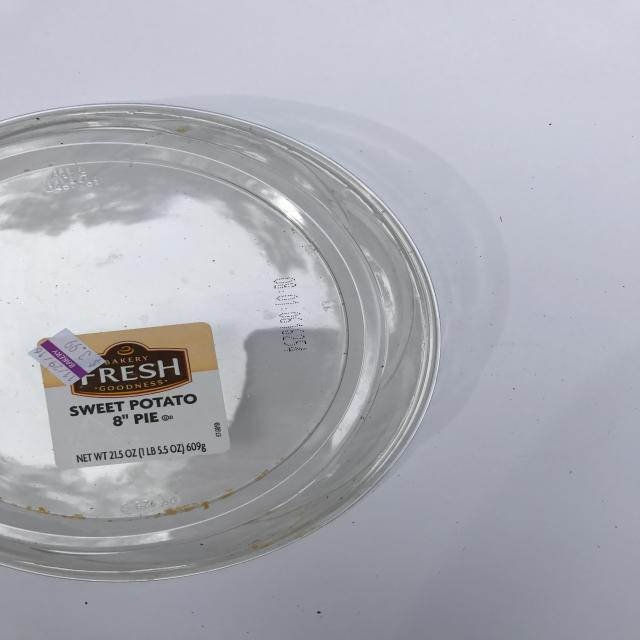plastic: (3, 100, 452, 584)
